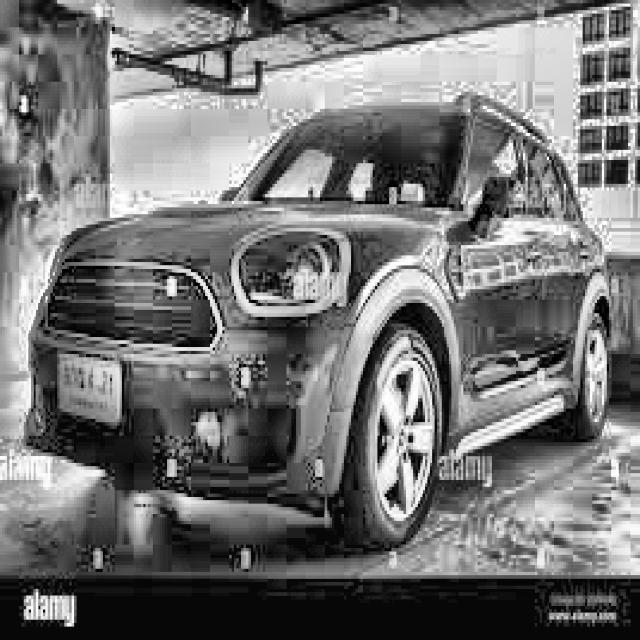license-plate: (56, 349, 124, 427)
